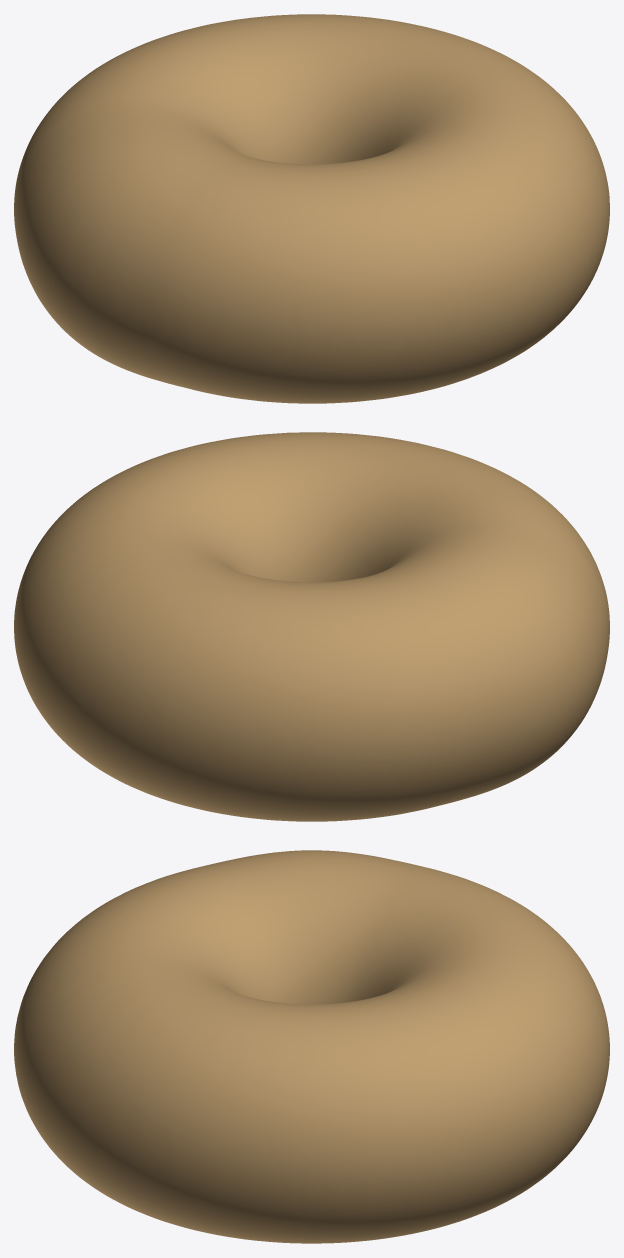
File: donut-transformed.glb
The picture shows the model from 3 angles, top to bottom: view 1: azimuth 30°, elevation 25°; view 2: azimuth 150°, elevation 25°; view 3: azimuth 270°, elevation 25°; orthographic projection.
Parts seen in each view (by area): view 1: baked-goods; view 2: baked-goods; view 3: baked-goods.
Boxes of the visible parts, bbox=[...] form: baked-goods: bbox=[14, 14, 609, 403]; baked-goods: bbox=[14, 432, 609, 821]; baked-goods: bbox=[14, 850, 609, 1243].
Bounding box in the file's own units: 32.82 × 13.38 × 32.52.
1 material, 1 textured.
